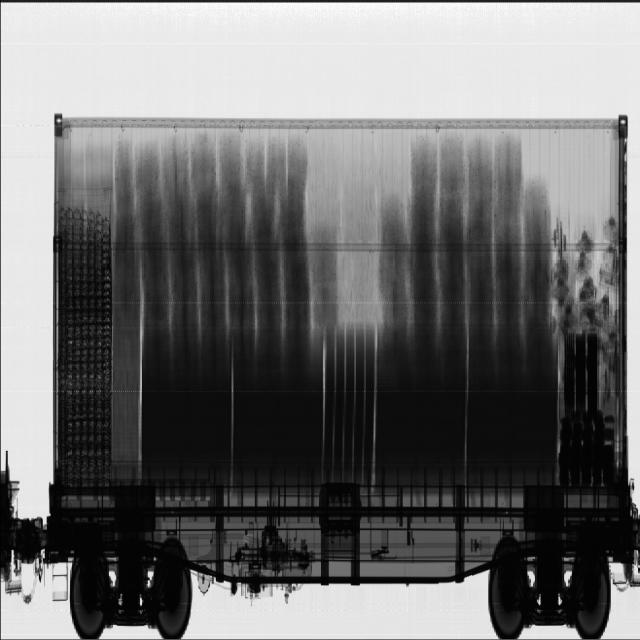textiles: (111, 137, 313, 468), (383, 133, 552, 328)
